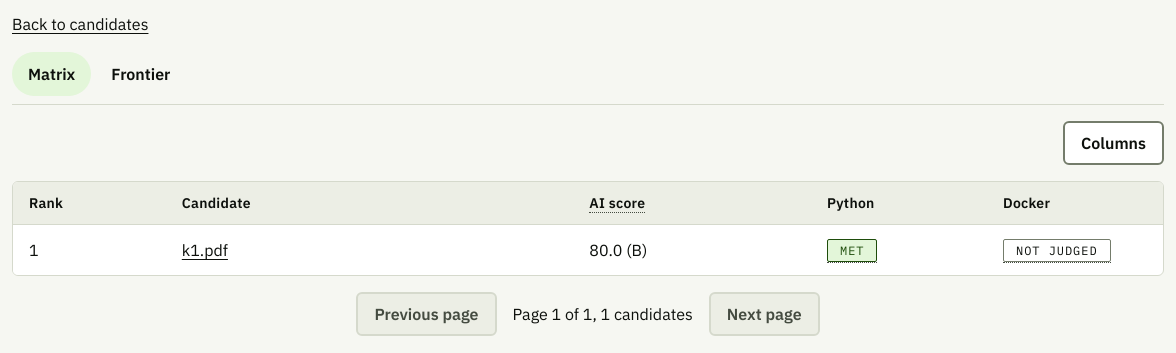
matrix › gives the kind and weight of a requirement on hover
Step 1. Hover over the text "Python" → (851, 203), box [827, 194, 875, 212]
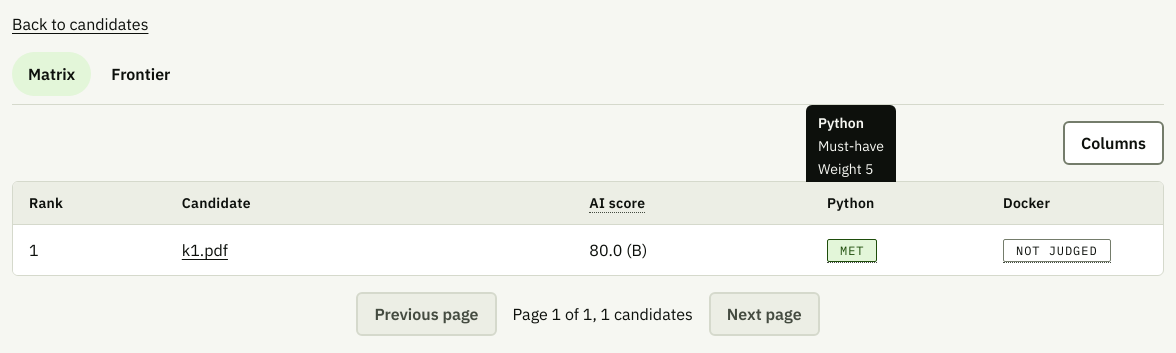
expect the tooltip shows "Must-have": met, box [818, 137, 884, 155]
expect the tooltip shows "Weight 5": met, box [818, 160, 873, 178]
